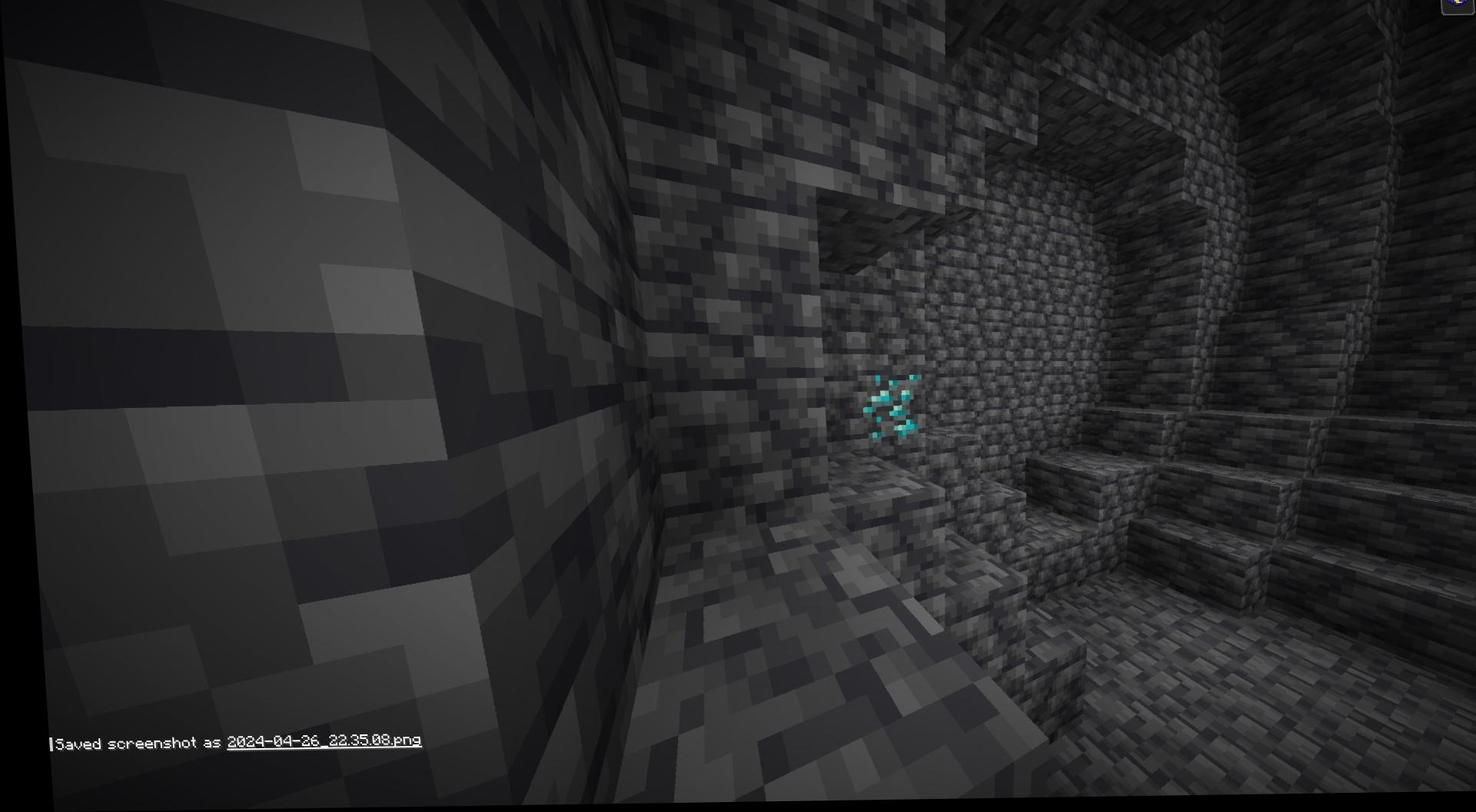diamond ore: (847, 374, 918, 445)
